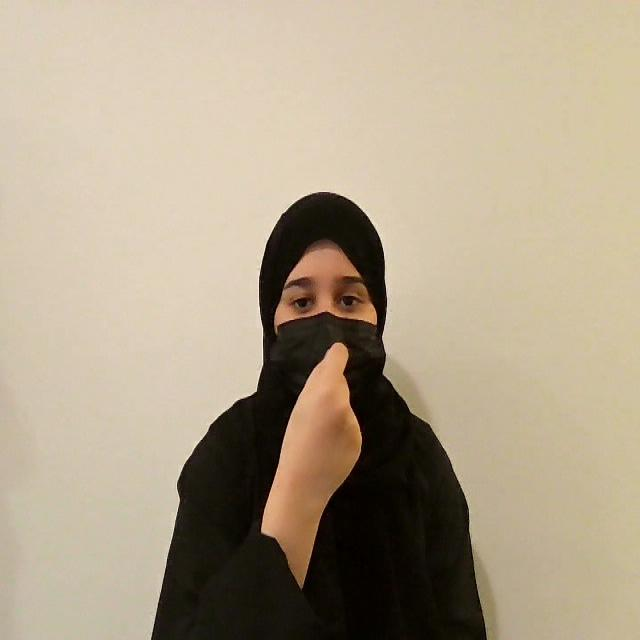medicine: (276, 340, 362, 507)
